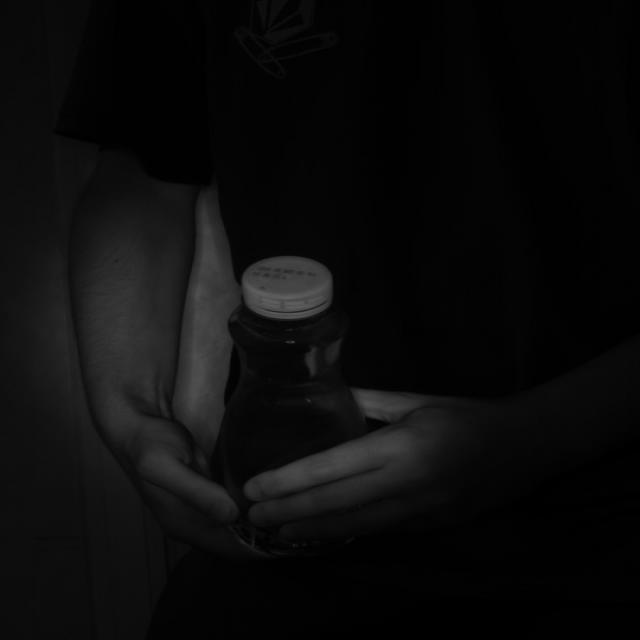Not Good: (242, 255, 328, 321)
